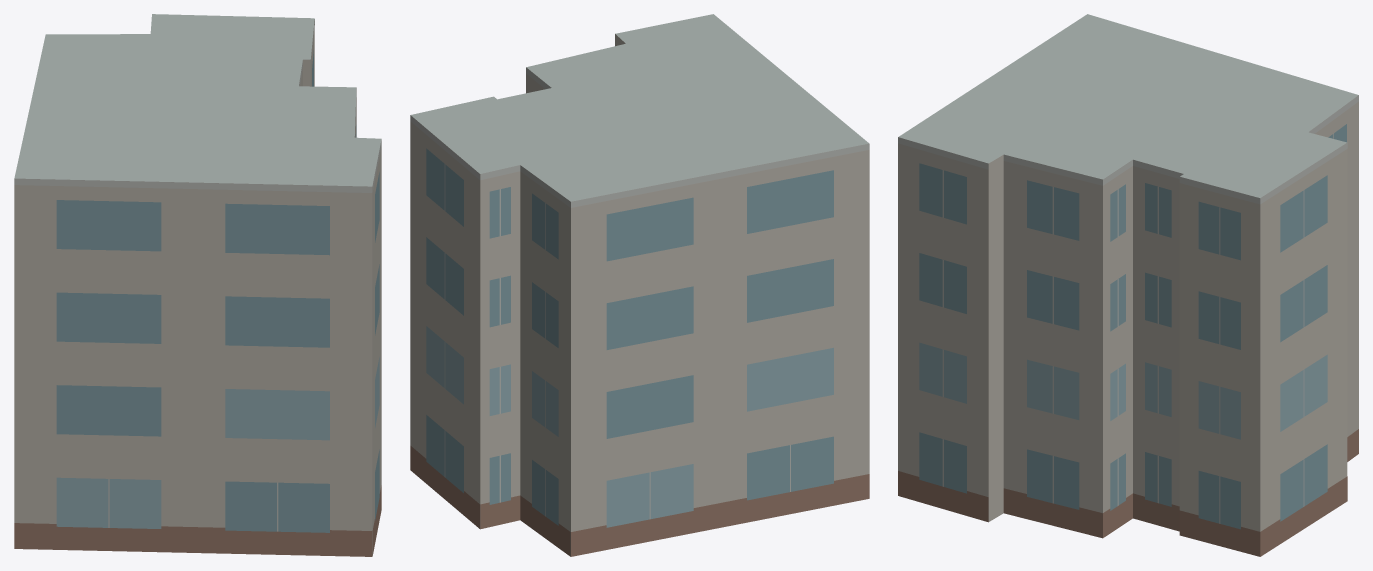
Rendered from survey-upis-32996451.glb.
3 renders of one model, left to right at view 1: azimuth 30°, elevation 25°; view 2: azimuth 150°, elevation 25°; view 3: azimuth 270°, elevation 25°, orthographic. The views are drawn at different scales.
Visible parts, largest first — view 1: survey-upis-32996451.tmp; view 2: survey-upis-32996451.tmp; view 3: survey-upis-32996451.tmp.
Boxes of the visible parts, bbox=[...] form: survey-upis-32996451.tmp: bbox=[14, 14, 381, 556]; survey-upis-32996451.tmp: bbox=[410, 14, 869, 556]; survey-upis-32996451.tmp: bbox=[898, 14, 1358, 556].
Size of the model in its own units: 15.31 by 13.9 by 16.19.
